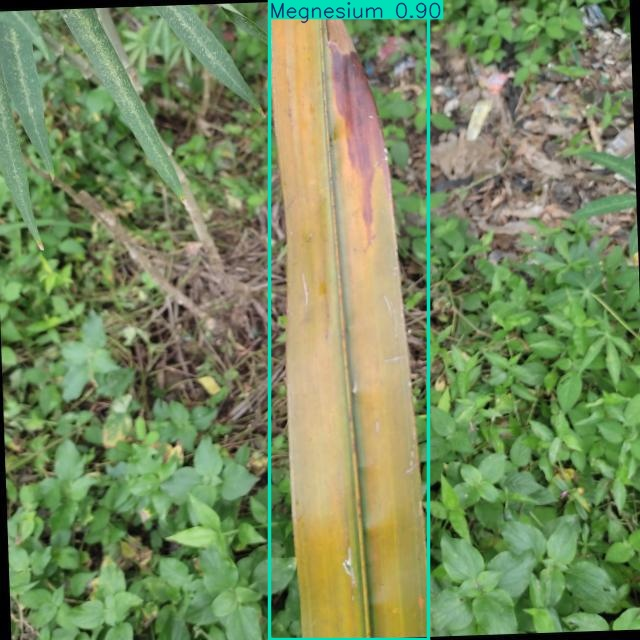Megnesium: (269, 0, 429, 640)
